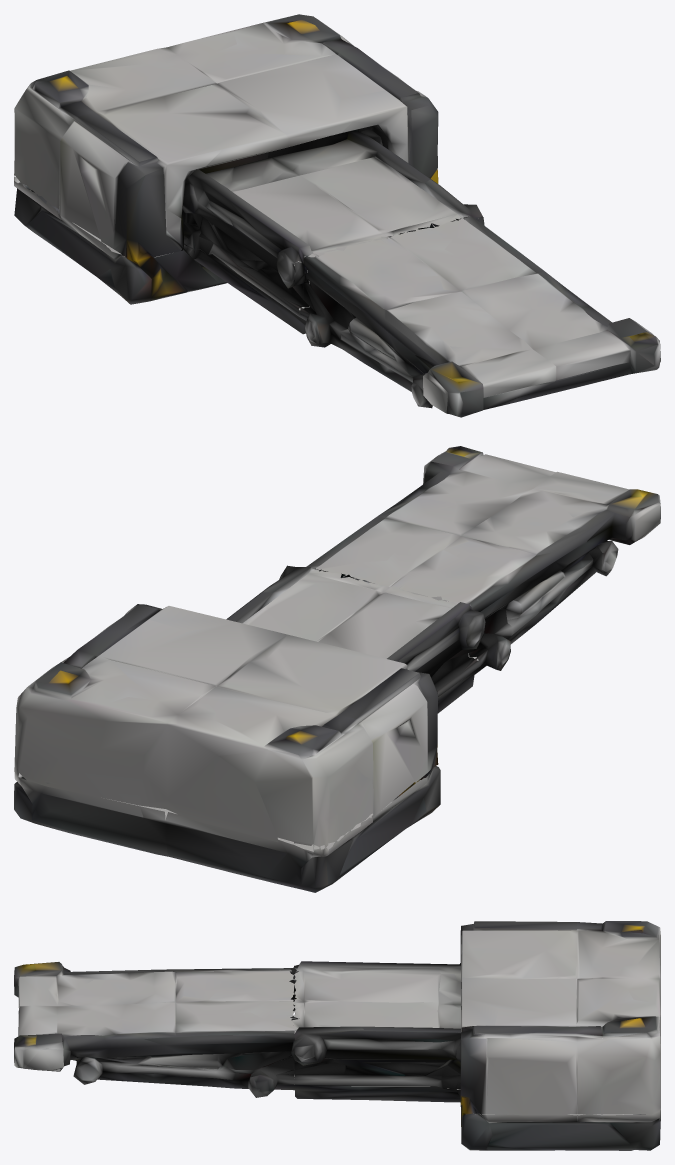
File: model-37-extension-bridge.glb
3 renders of one model, top to bottom at view 1: azimuth 30°, elevation 25°; view 2: azimuth 150°, elevation 25°; view 3: azimuth 270°, elevation 25°, orthographic. The views are drawn at different scales.
Parts seen in each view (by area): view 1: Moving, Frame; view 2: Moving, Frame; view 3: Moving, Frame.
Part boxes in pixels (x1,y1,x2,y2): Moving: [14, 14, 482, 316]; Frame: [14, 176, 660, 417]; Moving: [14, 565, 483, 850]; Frame: [14, 446, 660, 892]; Moving: [291, 921, 660, 1115]; Frame: [14, 962, 660, 1150].
Bounding box in the file's own units: 0.5008 × 0.2197 × 1.09.
